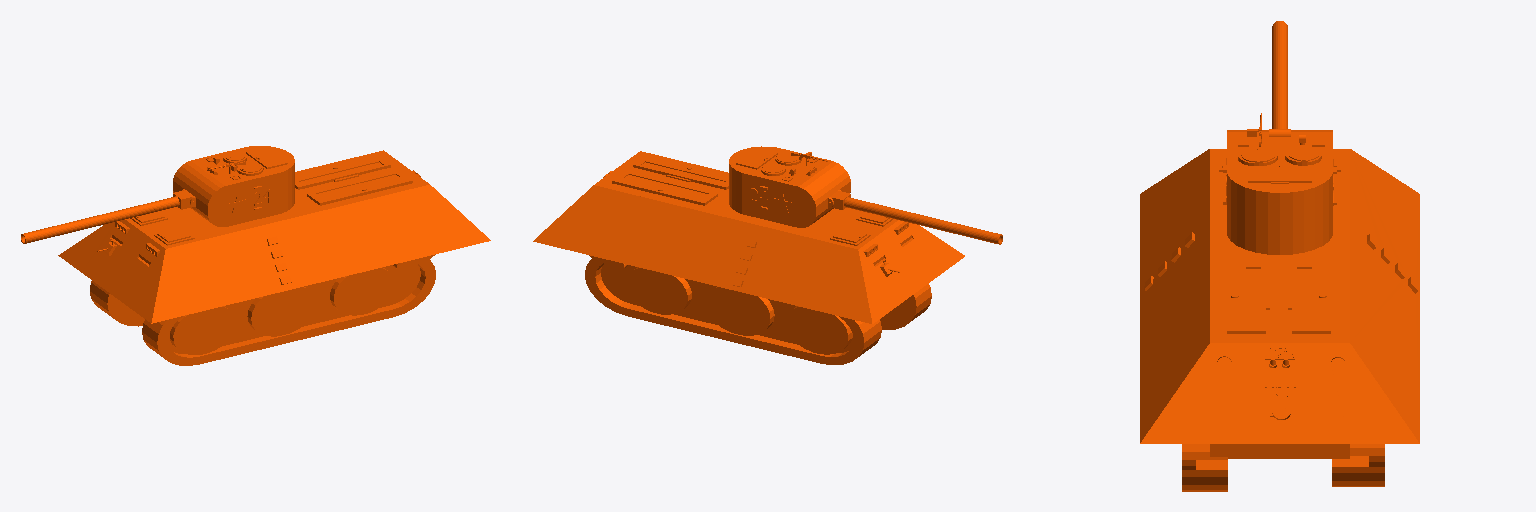
The robot description file, URDF, robot "Tank_9037fb8643165a0f543fc9b228fa4afd":
<?xml version="1.0" ?>
<robot name="Tank_9037fb8643165a0f543fc9b228fa4afd">
   <material name="obj_color">
      <color rgba="1.0 0.423529411765 0.0392156862745 1.0"/>
   </material>
   <link name="top">
      <inertial>
         <origin rpy="0.0001025255456844964 0.0003858811782134365 0.0003908594116170993" xyz="0.001113525777999042 -0.002778226543657844 -0.001380618002470437"/>
         <mass value="0.2769978007876621"/>
         <inertia ixx="0.0001040458245108709" ixy="-1.685826446731896e-07" ixz="2.088077645184892e-05" iyy="0.0003858812162846482" iyz="3.885744491227531e-08" izz="0.000389339094719513"/>
      </inertial>
      <visual>
         <origin rpy="0 0 0" xyz="0 0 0"/>
         <geometry>
            <mesh filename="top_watertight_tiny.stl" scale="1 1 1"/>
         </geometry>
         <material name="obj_color"/>
      </visual>
      <collision>
         <origin rpy="0 0 0" xyz="0 0 0"/>
         <geometry>
            <mesh filename="top_watertight_tiny.obj" scale="1 1 1"/>
         </geometry>
      </collision>
   </link>
   <link name="bottom">
      <inertial>
         <origin rpy="1.633333333199431e-08 1.633333333199431e-08 1.633333333362855e-08" xyz="0.3464080000000008 0.3464080000000008 0.3464080000000008"/>
         <mass value="0.0009800000000000017"/>
         <inertia ixx="1.633333333253906e-08" ixy="5.447480642029219e-19" ixz="5.447480642029219e-19" iyy="1.633333333253906e-08" iyz="5.447480642029219e-19" izz="1.633333333253906e-08"/>
      </inertial>
      <visual>
         <origin rpy="0 0 0" xyz="0 0 0"/>
         <geometry>
            <mesh filename="bottom_watertight_tiny.stl" scale="1 1 1"/>
         </geometry>
         <material name="obj_color"/>
      </visual>
   </link>
   <link name="world"/>
   <joint name="world_to_base" type="fixed">
      <origin xyz="0 0 0"/>
      <axis xyz="0 0 0"/>
      <parent link="world"/>
      <child link="bottom"/>
   </joint>
   <joint name="rotation" type="revolute">
      <origin xyz="0 0 0"/>
      <axis xyz="0 0 -1"/>
      <parent link="bottom"/>
      <child link="top"/>
      <dynamics damping="1.0" friction="1.0"/>
      <limit effort="0.1" velocity="0.1" lower="0" upper="0.001"/>
   </joint>
</robot>

--- What the picture shows (computed from the rendered views, not written in the file) ---
Views: 3 orthographic renders of the robot side by side, from view 1: azimuth 30°, elevation 25°; view 2: azimuth 150°, elevation 25°; view 3: azimuth 270°, elevation 25°.
Robot: Tank_9037fb8643165a0f543fc9b228fa4afd — 3 links, 2 joints (1 revolute, 1 fixed); root link world; default pose: all joints at 0.
Links seen in each view (by area): view 1: top; view 2: top; view 3: top.
Link boxes in pixels (box(x1,y1,x2,y2)): top: box(21, 146, 490, 365); top: box(533, 146, 1002, 364); top: box(1140, 21, 1419, 491).
Size in the robot's own frame: 0.1552 by 0.0593 by 0.0595 metres.
Meshes: 2 distinct files referenced, 1 mesh visuals loaded (1 binary STL); not drawn: 1 (reference not matched to a file when rendering).
